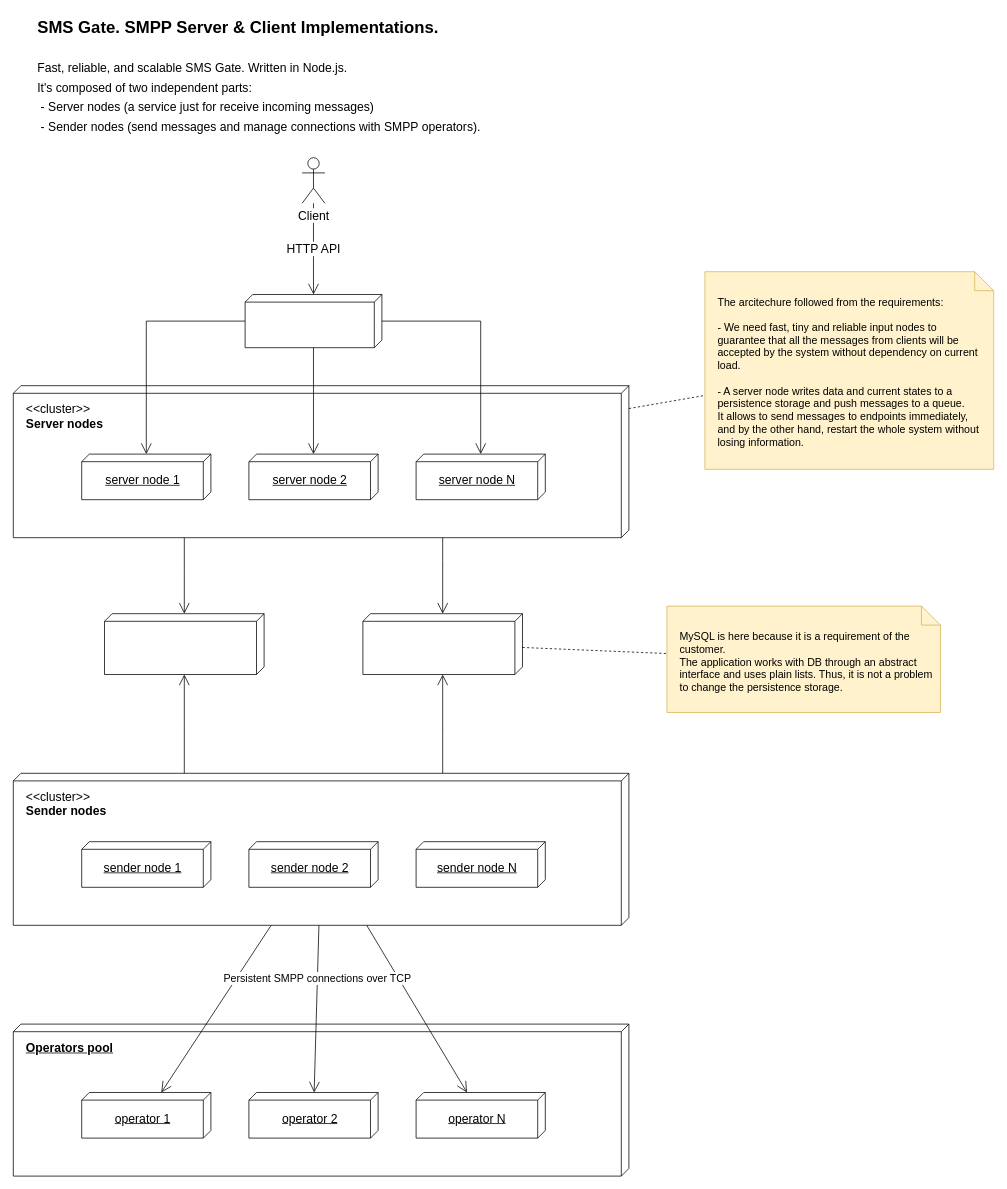
Image size: 1007x1189. Some labels were removed from this diagram. Here are the shapes that lost their labels. From the top down, the centre of each, then its label:
At point 313,321: "<<balancer>> nginx".
At point 184,643: "<<message broker>> RabbitMQ".
At point 442,643: "<<database>> MySQL".
